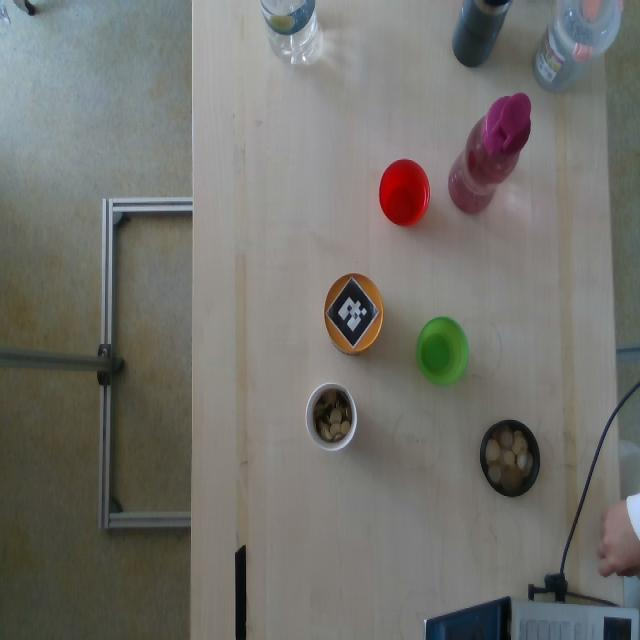cups: (447, 89, 533, 218), (533, 0, 625, 94), (322, 271, 386, 356), (480, 418, 541, 498), (450, 0, 514, 68), (306, 380, 358, 453), (260, 0, 322, 61), (378, 158, 430, 229), (415, 318, 468, 387)
